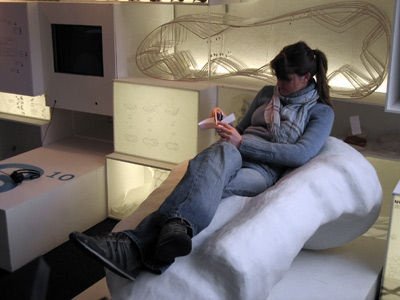head: (272, 36, 317, 94)
person: (45, 32, 354, 295)
